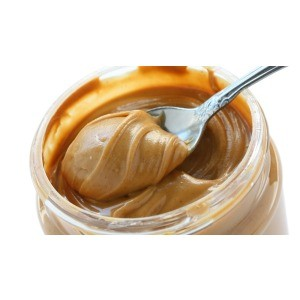peanut butter_brain food: (38, 101, 222, 197)
